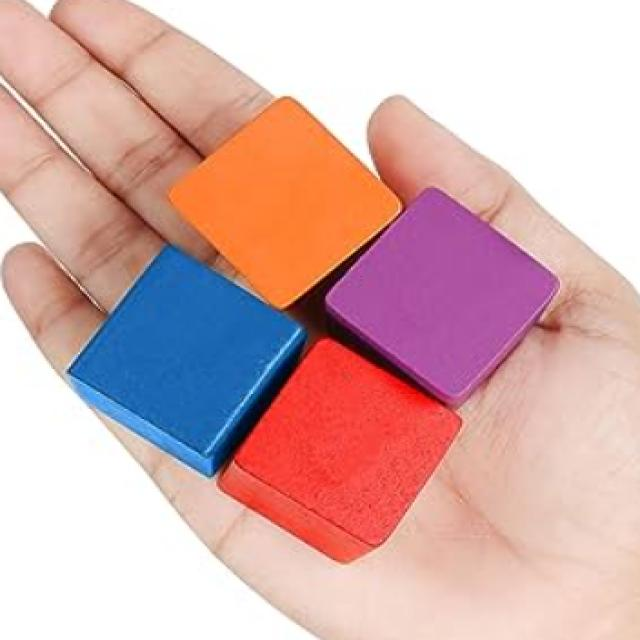bluecube: (67, 243, 305, 476)
red cube: (217, 332, 469, 566)
